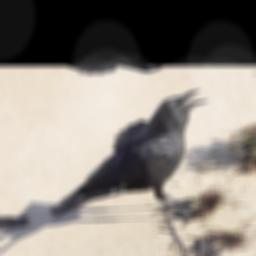Crow: (12, 87, 256, 256)
